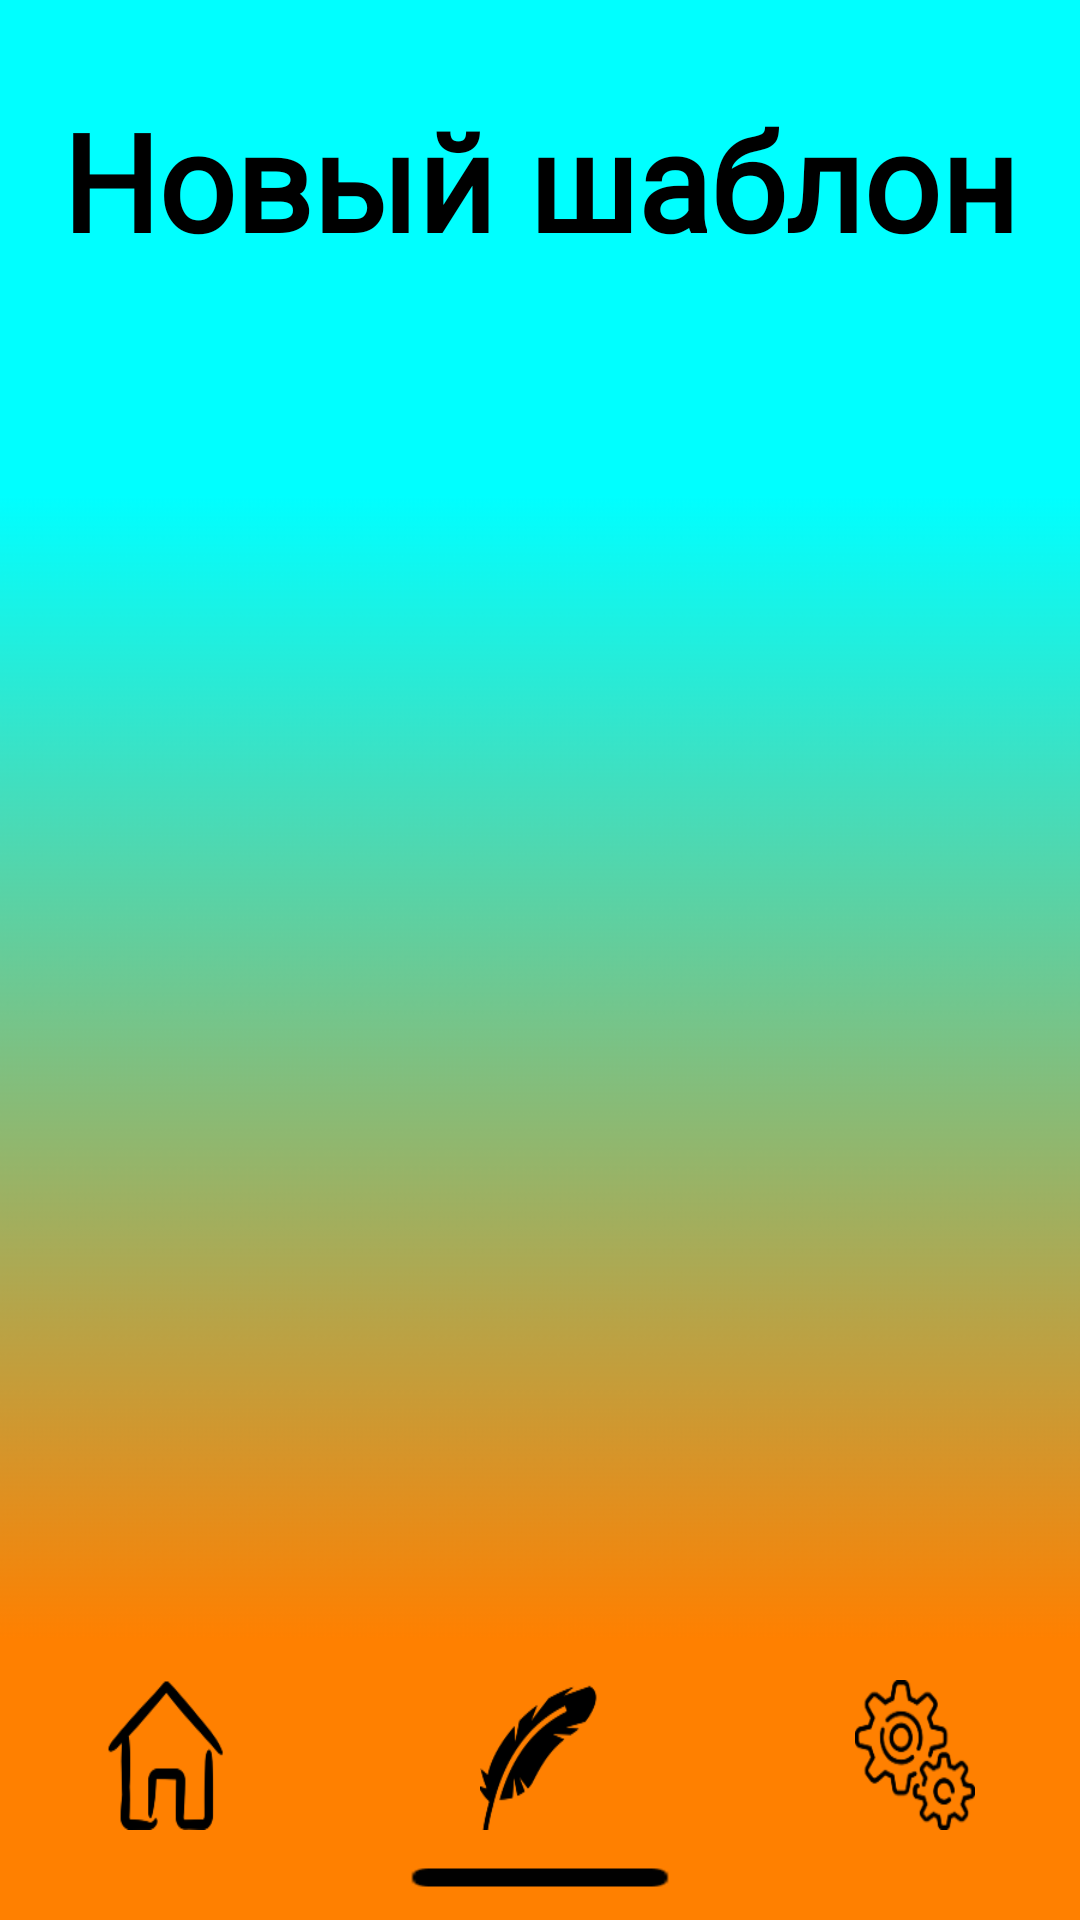

Icon click points for this 1080 × 1920 phone screenshot, format (x,y):
home: (165,1755)
settings: (915,1755)
